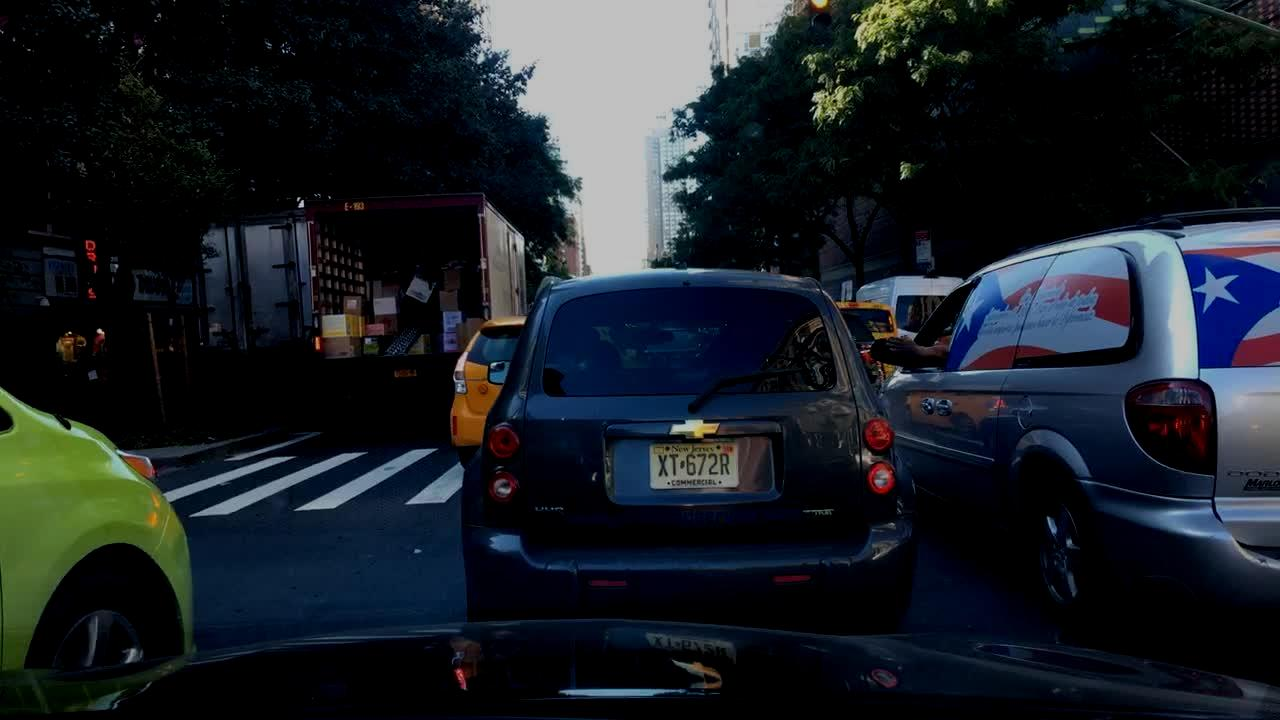chevrolet: (650, 410, 749, 446)
